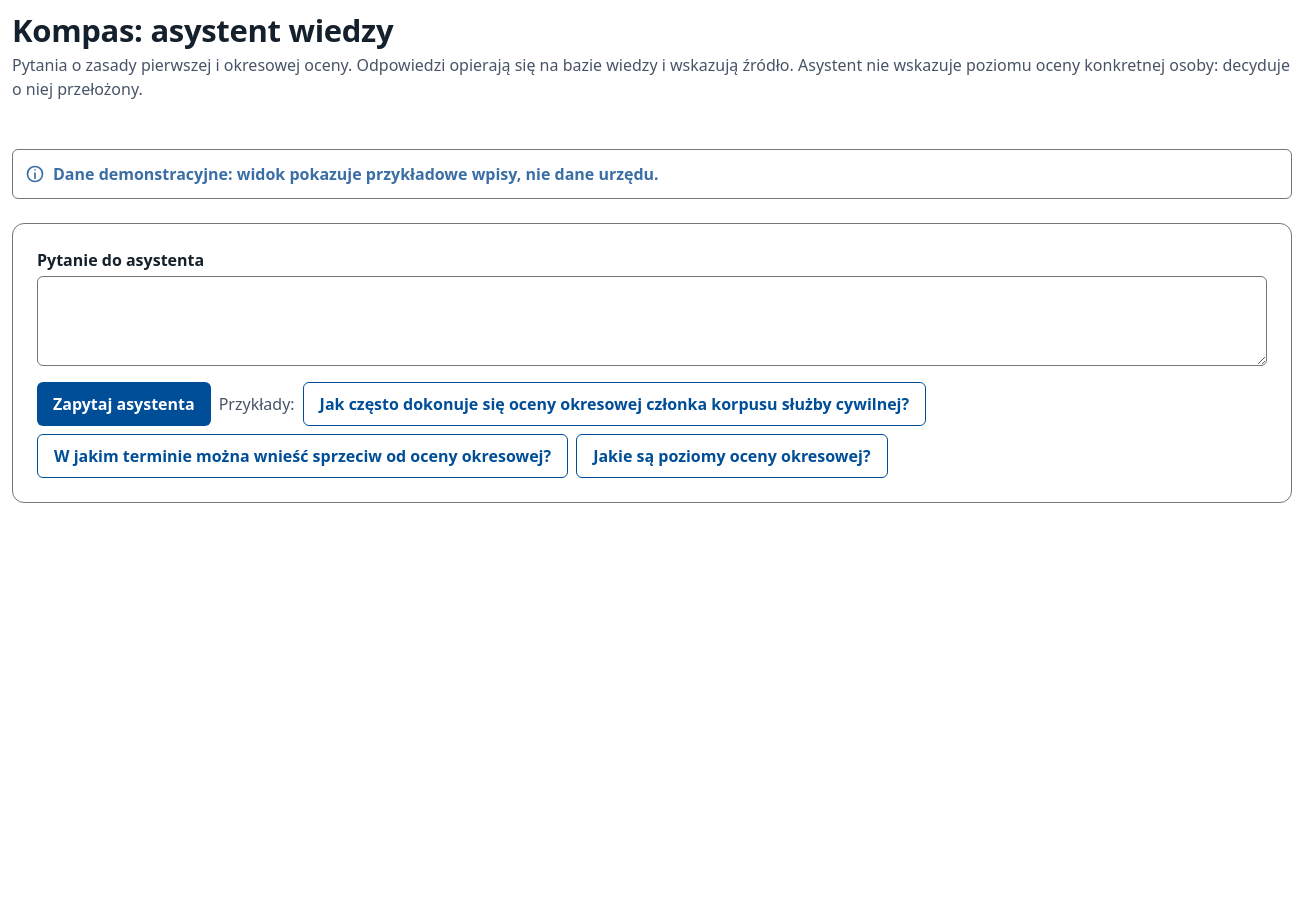
AssistantPage › shows the message of a backend error and keeps the page usable
This screenshot has width=1304, height=912.
In the text box labelled "Pytanie do asystenta": x=652, y=321 37,276 -> 1267,366, type "Pytanie o ocenę"
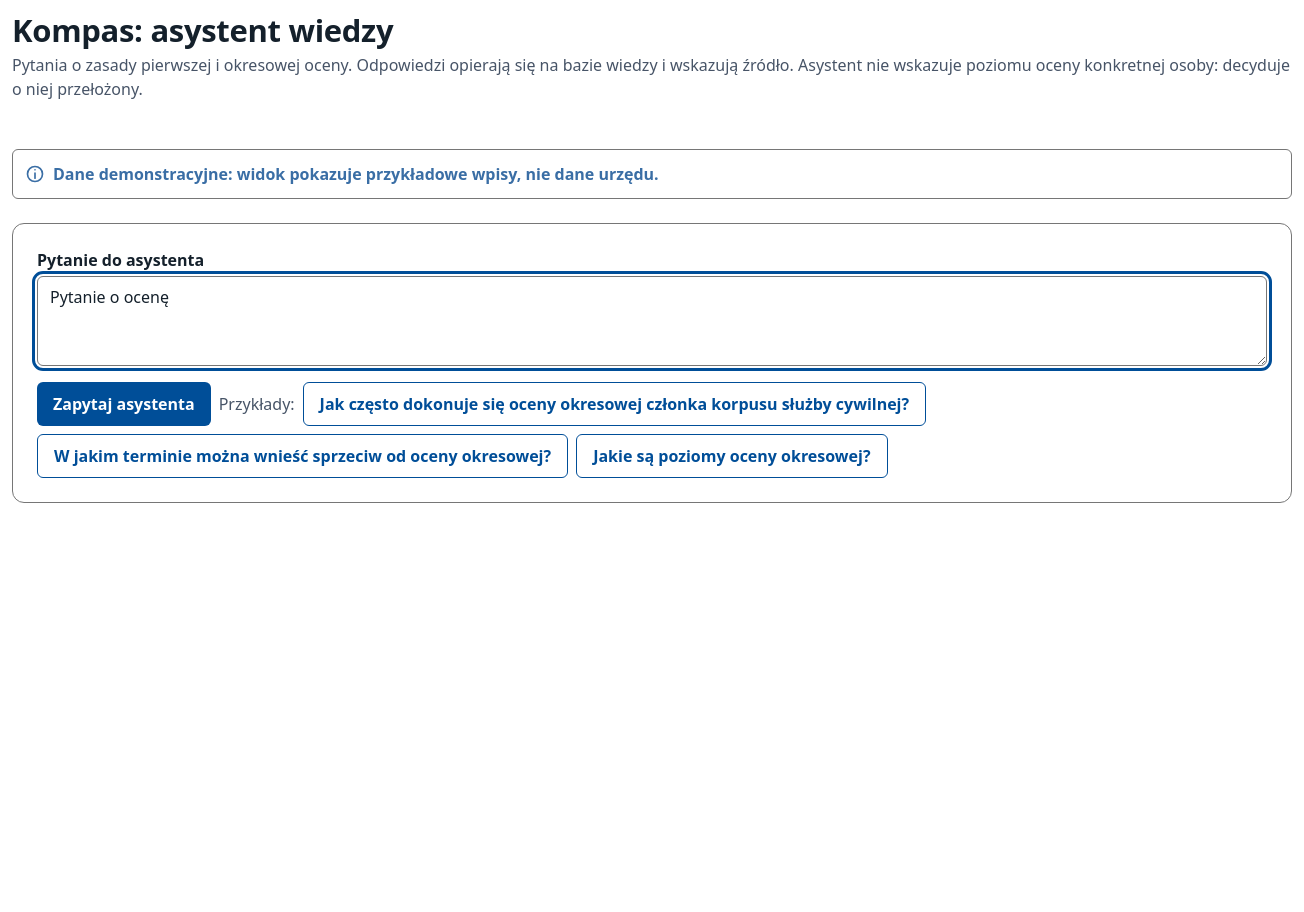
Click the button "Zapytaj asystenta": x=124, y=404 37,382 -> 211,426
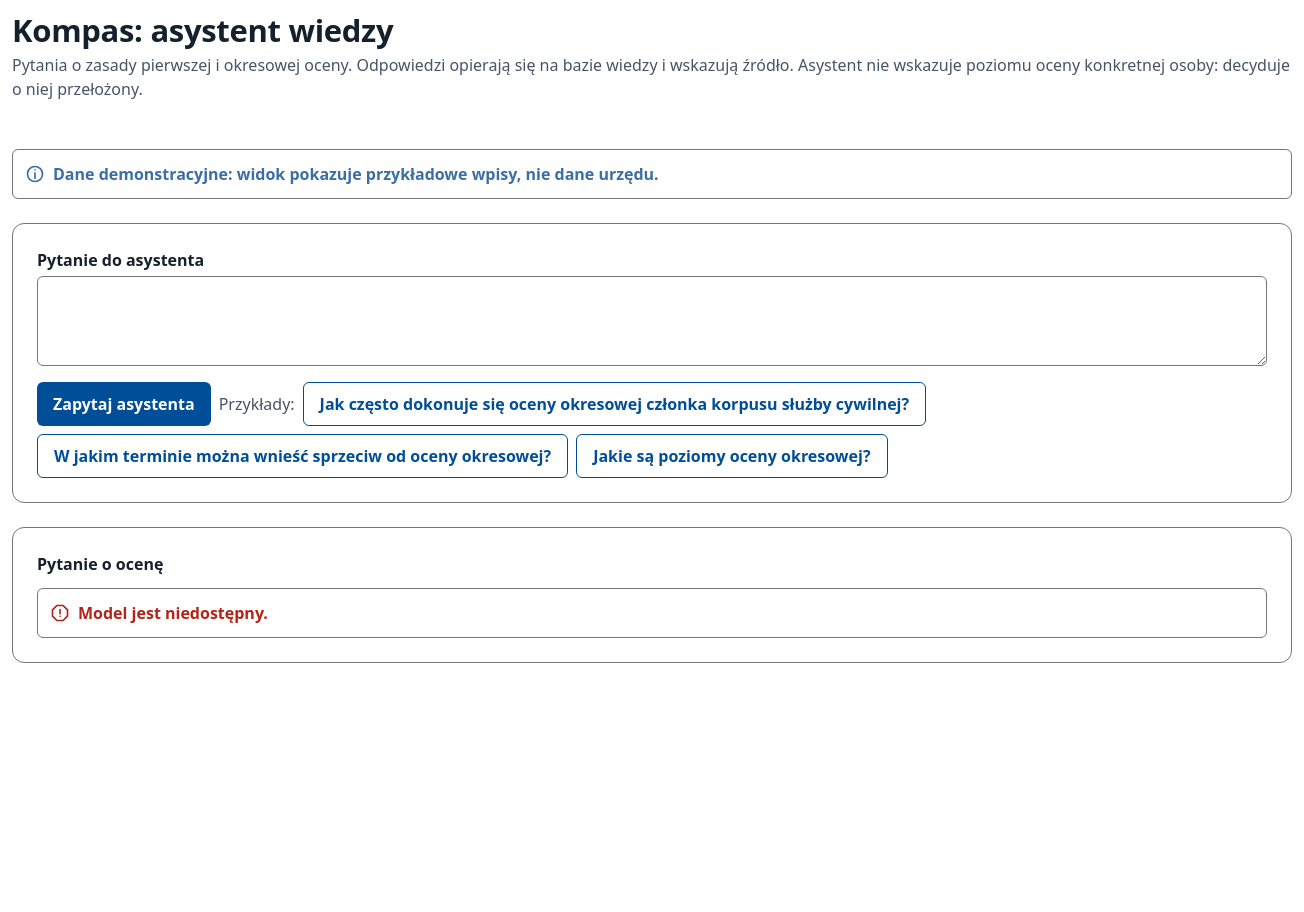
Result: the text "Model jest niedostępny." is shown at 78,601 -> 268,625
